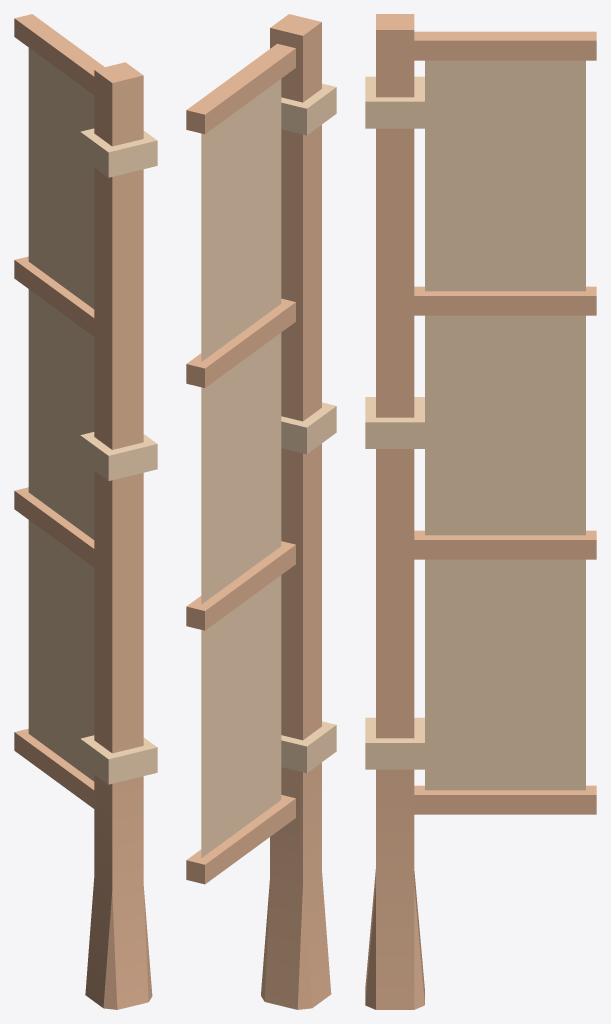
The model's file is blade.glb.
The picture shows the model from 3 angles, left to right: view 1: azimuth 30°, elevation 25°; view 2: azimuth 150°, elevation 25°; view 3: azimuth 270°, elevation 25°; orthographic projection. The views are drawn at different scales.
Parts seen in each view (by area): view 1: blade; view 2: blade; view 3: blade.
Boxes of the visible parts, left/top/right/bottom form: blade: left=14, top=14, right=157, bottom=1009; blade: left=186, top=14, right=336, bottom=1009; blade: left=365, top=14, right=596, bottom=1009.
Size of the model in its own units: 0.111 by 2 by 0.4304.
